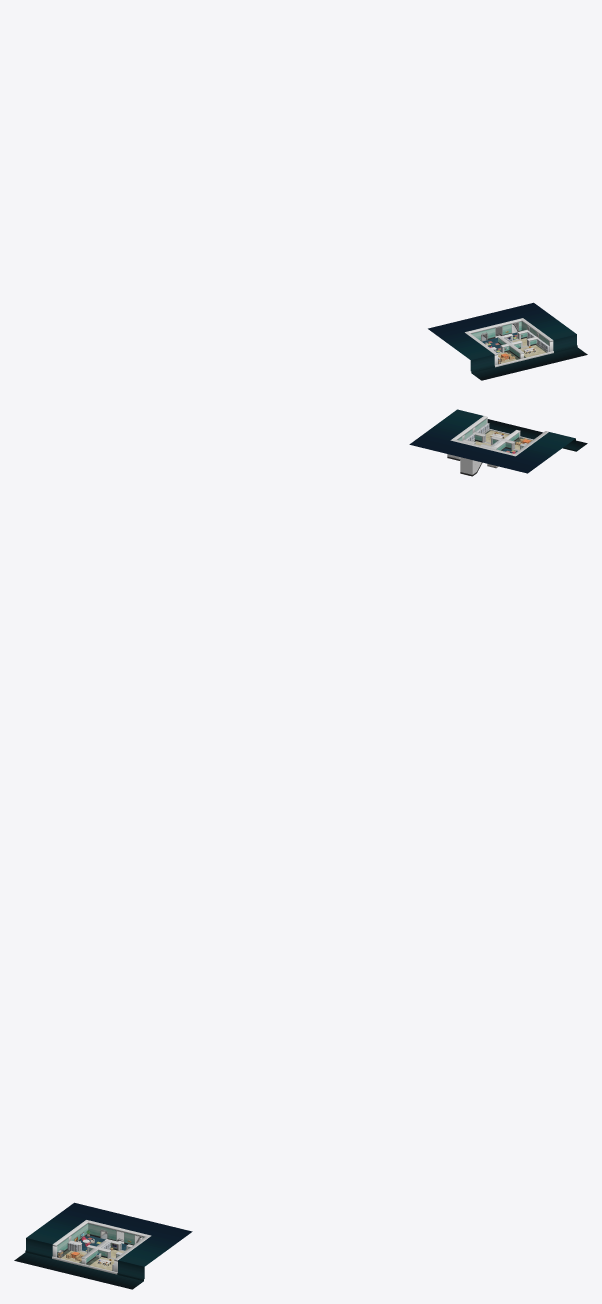
3 views of the same model, one above another, from view 1: azimuth 30°, elevation 25°; view 2: azimuth 150°, elevation 25°; view 3: azimuth 330°, elevation 25° (orthographic). The views are drawn at different scales.
Parts seen in each view (by area): view 1: combg01_01, f4dba1c67c22276bb24b493e4, b1e7434b8e5cd558e7e667854; view 2: combg01_01, f4dba1c67c22276bb24b493e4; view 3: combg01_01, f4dba1c67c22276bb24b493e4, b1e7434b8e5cd558e7e667854.
Part boxes in pixels (bbox=[...]): combg01_01: bbox=[428, 302, 587, 380]; f4dba1c67c22276bb24b493e4: bbox=[464, 318, 553, 367]; b1e7434b8e5cd558e7e667854: bbox=[471, 321, 548, 358]; combg01_01: bbox=[409, 409, 587, 473]; f4dba1c67c22276bb24b493e4: bbox=[450, 416, 548, 456]; combg01_01: bbox=[14, 1202, 192, 1289]; f4dba1c67c22276bb24b493e4: bbox=[52, 1220, 151, 1274]; b1e7434b8e5cd558e7e667854: bbox=[57, 1223, 143, 1263].
Bounding box in the file's own units: 3260 × 541 × 26078.
Materials: 37 (36 with a texture image).
